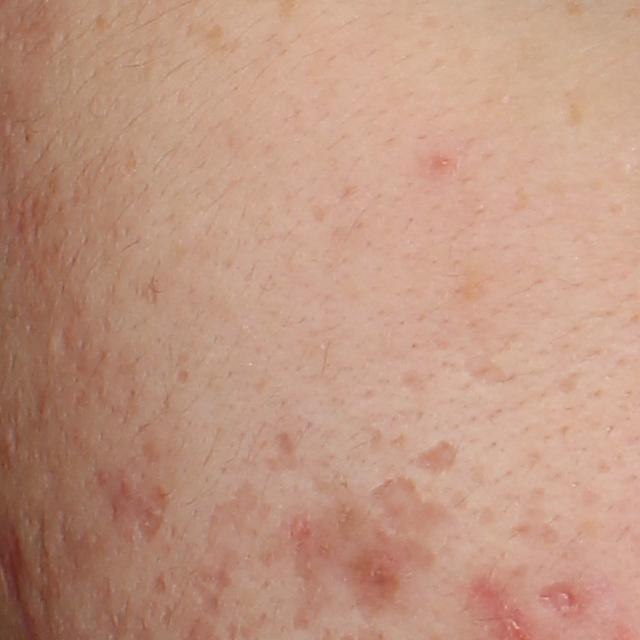atrophic_scar: (199, 480, 266, 555), (102, 469, 173, 539), (462, 351, 506, 391), (536, 579, 584, 615), (410, 439, 458, 473), (399, 369, 438, 397), (556, 367, 582, 395), (368, 426, 387, 458), (390, 431, 411, 453), (175, 368, 191, 386)
